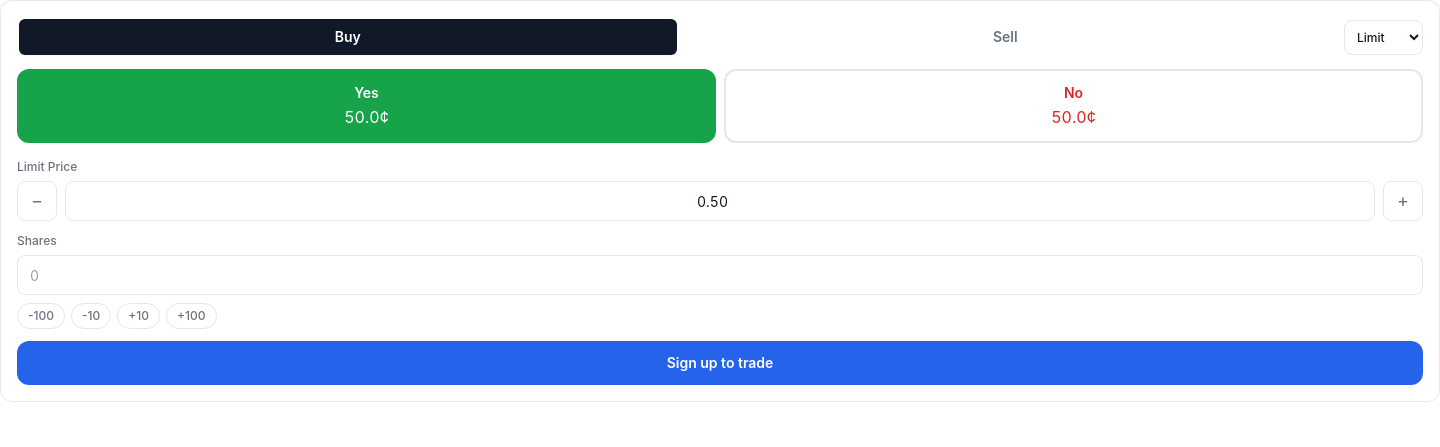
Test: OrderForm › keeps the form interactive when unauthenticated and opens signup on submit
The image size is (1440, 447).
Expected: the button "Buy" is enabled, [19,19,676,55]
Step 1. Click the button "Sign up to trade" → (720, 363), box [17,341,1423,385]
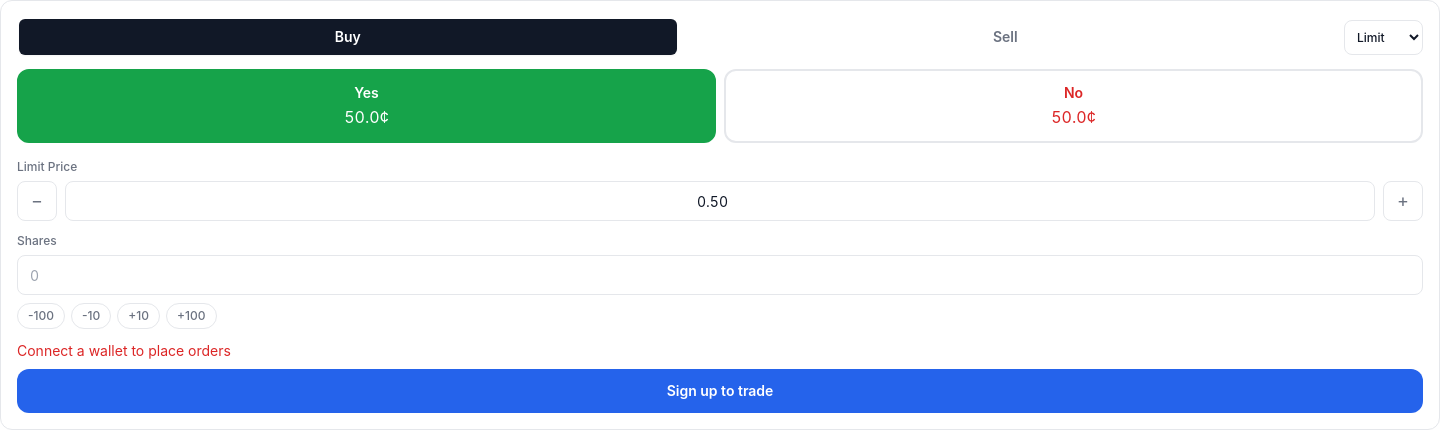
Expected: the text "Connect a wallet to place orders" is shown, [17,342,231,359]
